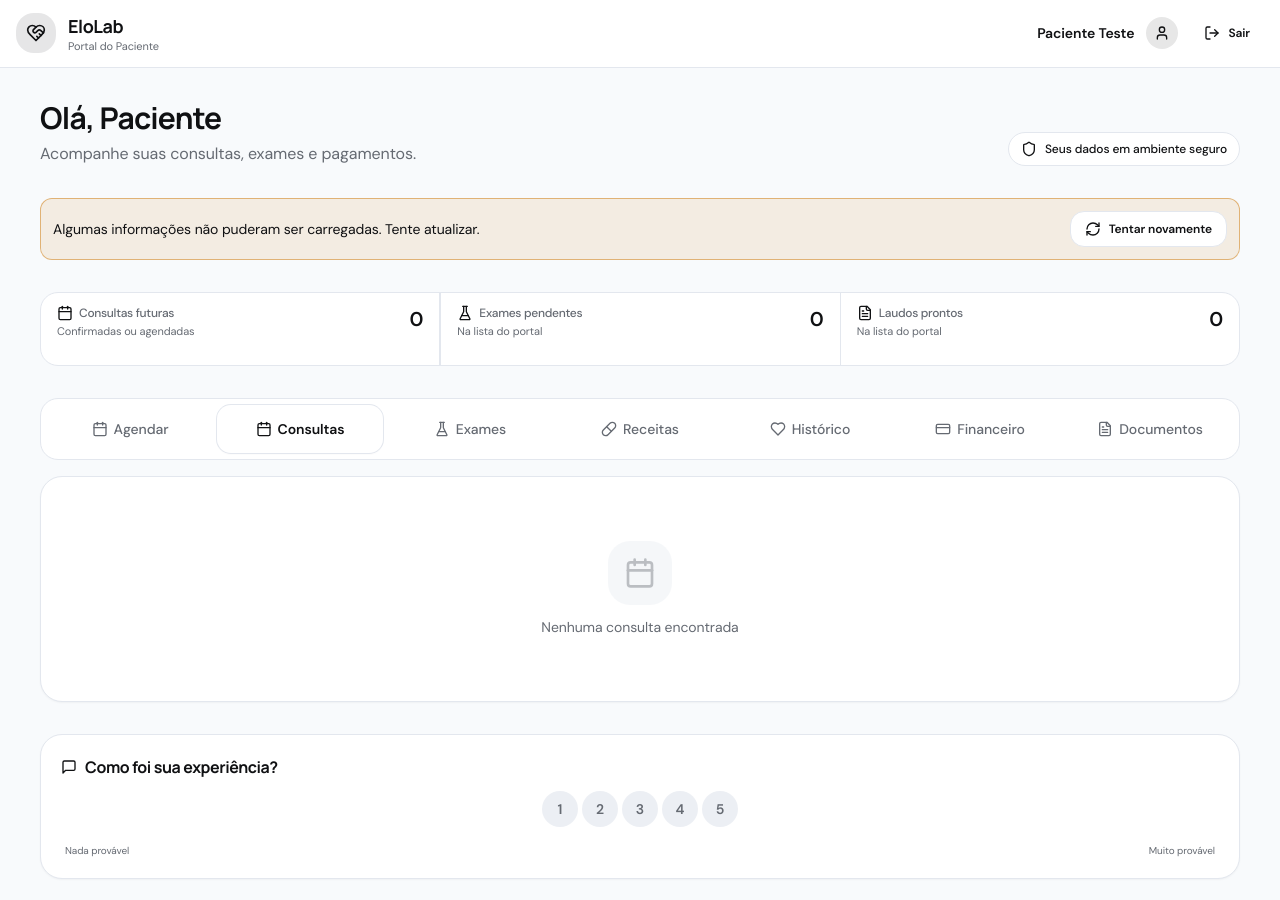
documentos do portal do paciente › não mostra documentos antigos quando a carga falha e mantém as demais abas utilizáveis
Click the tab "Documentos".
click(1150, 428)  # box [1067, 404, 1233, 452]
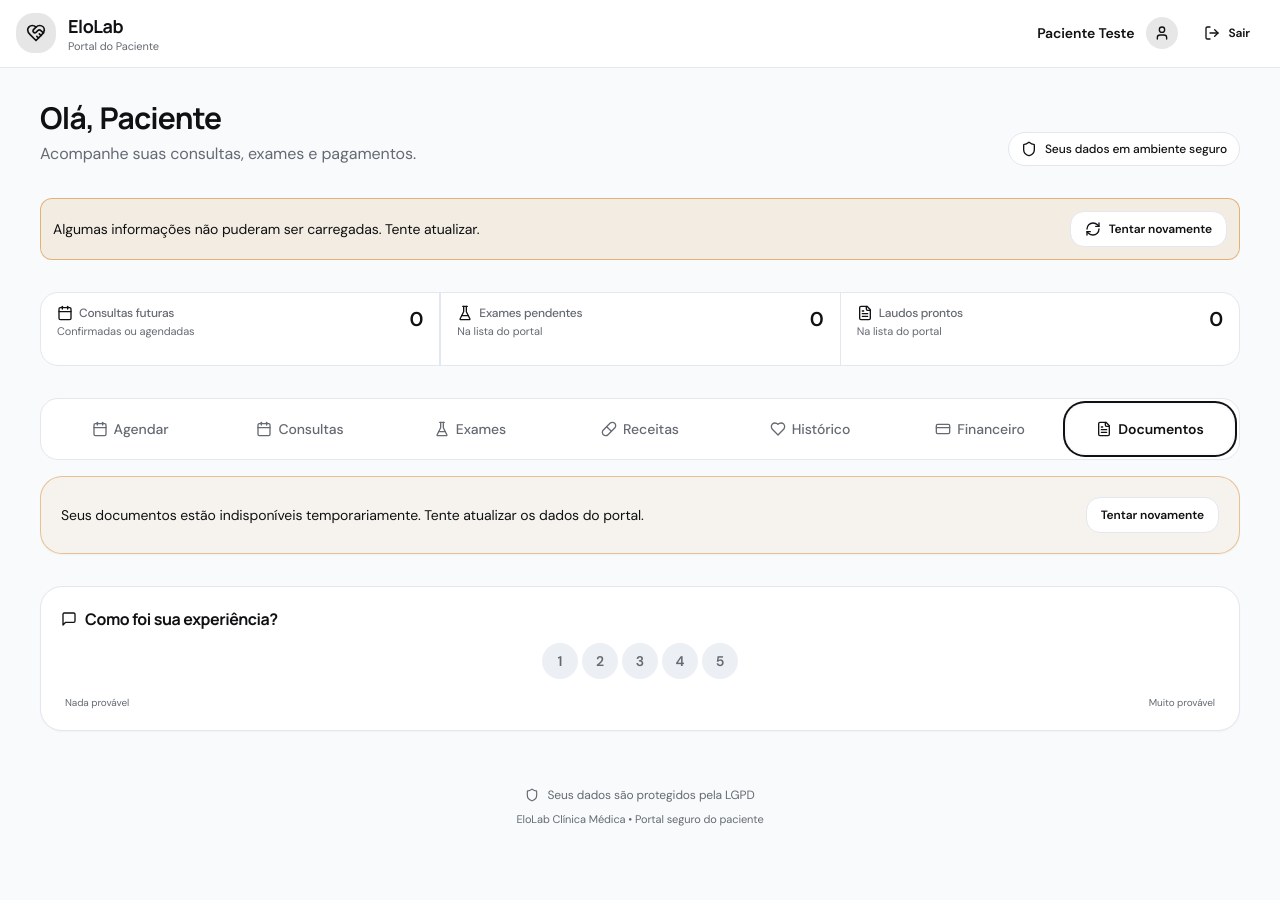
Expected: the 1st message shows "Algumas informações não puderam ser carregadas", [53, 220, 480, 238]
Expected: the text "documentos estão indisponíveis temporariamente" is shown, [61, 506, 644, 524]
Click the tab "Exames".
click(470, 428)  # box [387, 404, 553, 452]
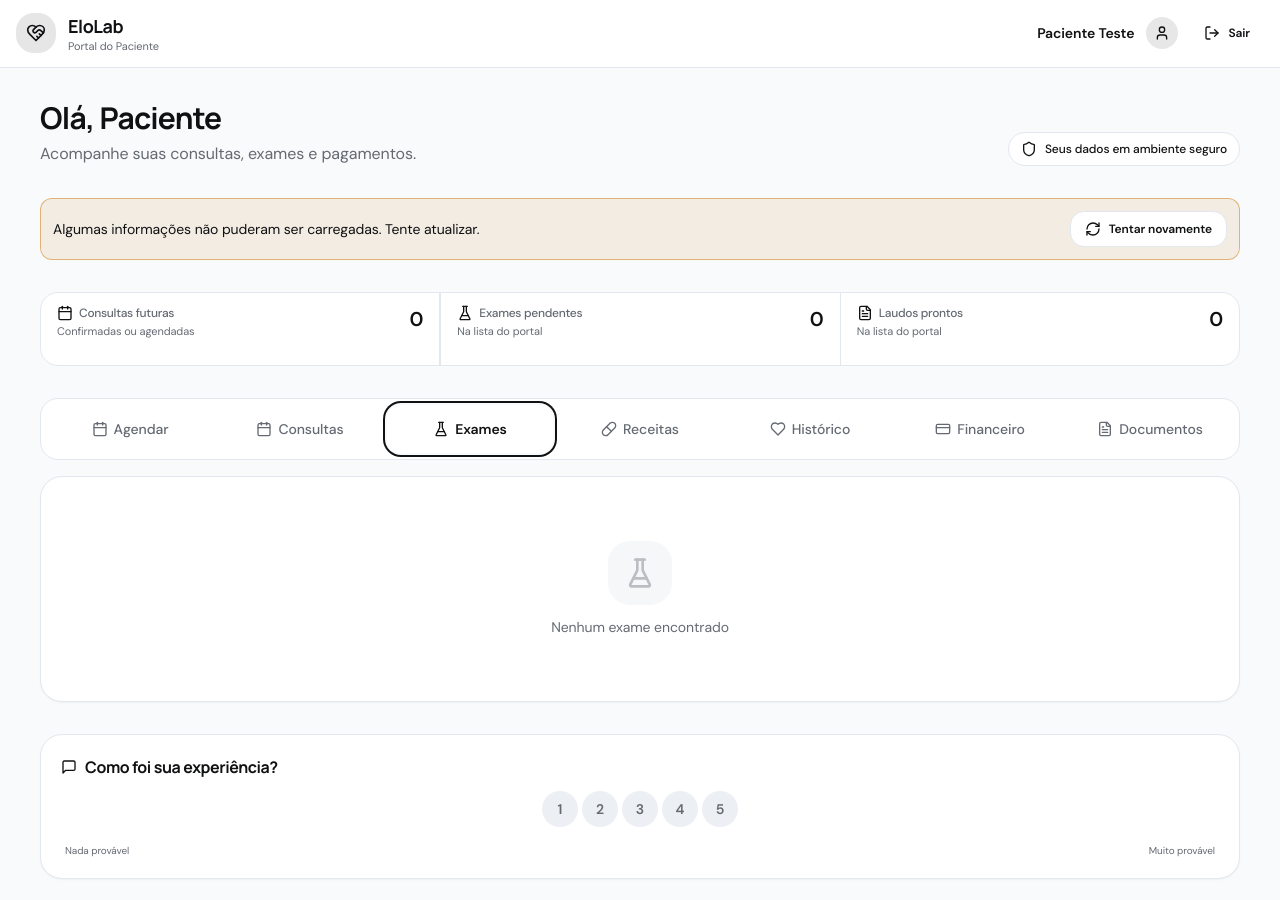
Expected: the text "Nenhum exame encontrado" is shown, [551, 616, 729, 636]
